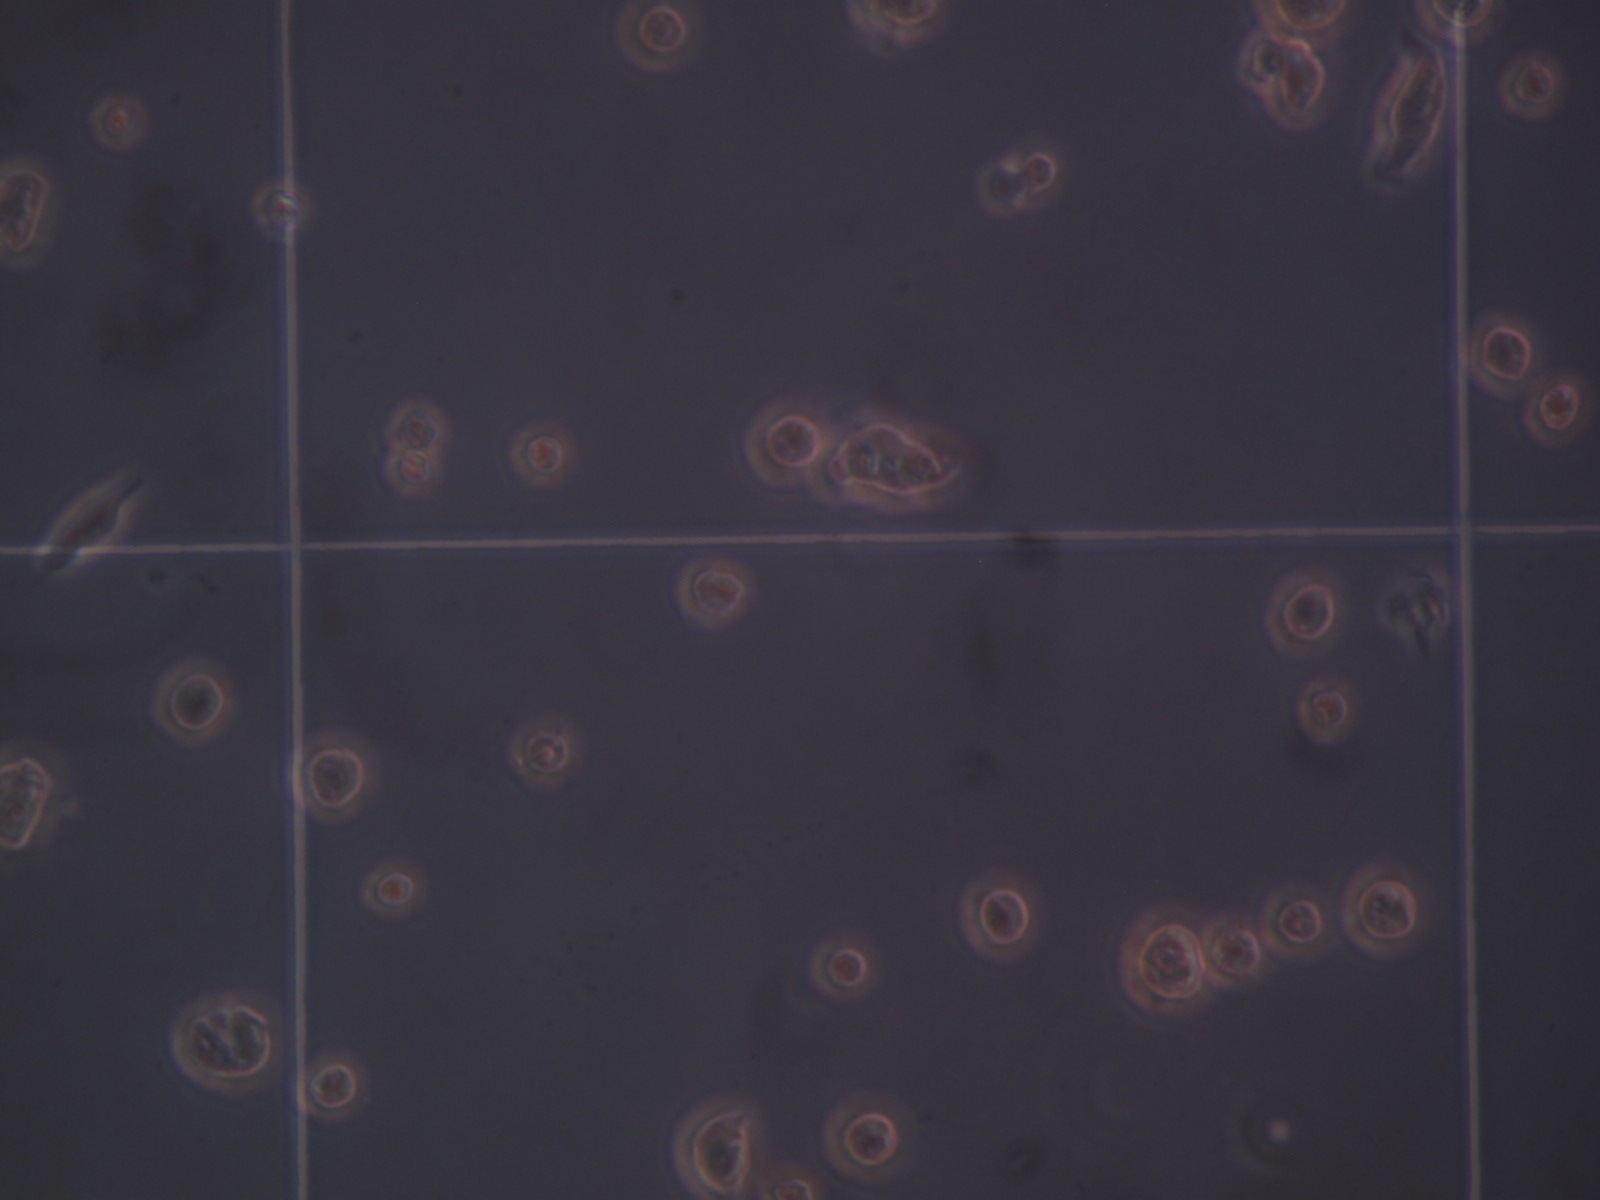hemo: (828, 408, 973, 511), (30, 468, 151, 580), (171, 986, 285, 1098), (1364, 47, 1449, 187), (1117, 908, 1209, 1015), (283, 726, 378, 824), (673, 1097, 756, 1200), (824, 1089, 913, 1185), (1, 736, 66, 867), (959, 867, 1044, 962), (150, 655, 236, 747), (1343, 861, 1425, 955), (743, 398, 826, 487), (1264, 568, 1344, 657), (1466, 306, 1542, 400), (1, 155, 59, 265), (674, 557, 758, 632), (1267, 38, 1334, 127), (616, 1, 700, 71), (509, 713, 582, 789), (1261, 882, 1332, 961), (294, 1049, 370, 1119), (354, 855, 432, 921), (1519, 373, 1587, 447), (1199, 913, 1267, 987), (1008, 132, 1067, 211), (1254, 1, 1361, 44), (810, 935, 876, 1005), (510, 418, 574, 489), (848, 1, 947, 45), (1296, 676, 1359, 745), (1411, 1, 1503, 47), (249, 180, 310, 245), (1500, 55, 1556, 121), (89, 93, 145, 151), (975, 160, 1028, 221), (1238, 34, 1289, 96), (391, 398, 446, 453), (382, 449, 442, 498), (758, 1162, 820, 1200)
